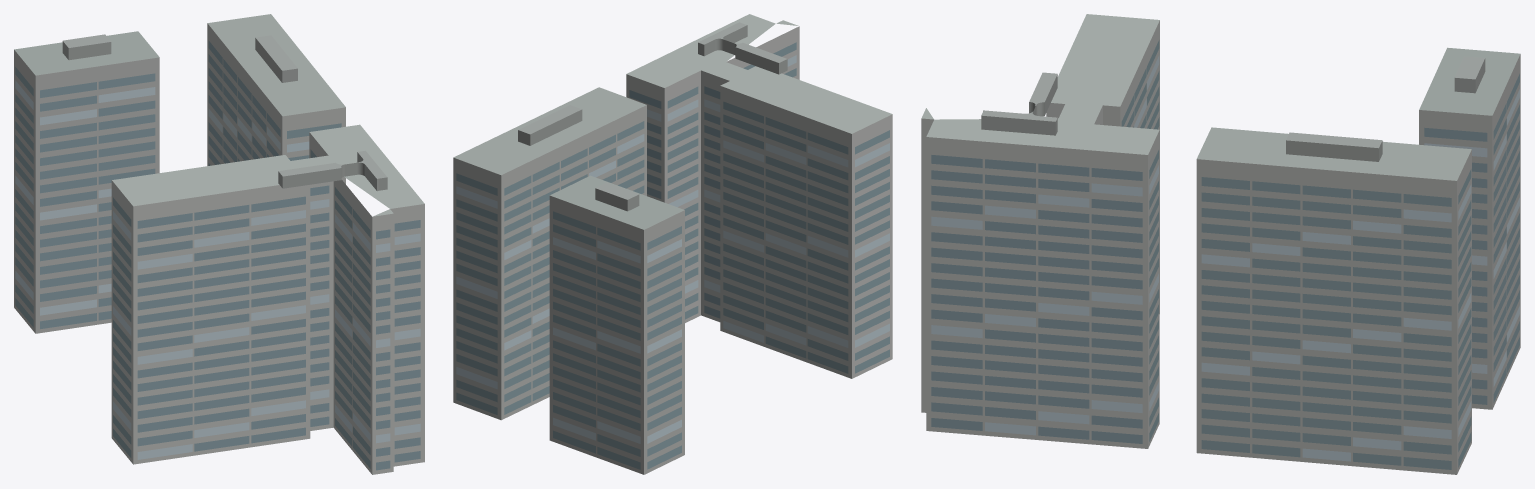
File: apt-a13922103.glb
3 views of the same model, side by side, from view 1: azimuth 30°, elevation 25°; view 2: azimuth 150°, elevation 25°; view 3: azimuth 270°, elevation 25° (orthographic). The views are drawn at different scales.
Visible parts, largest first — view 1: apt-a13922103; view 2: apt-a13922103; view 3: apt-a13922103.
Boxes of the visible parts, <box> form: apt-a13922103: <box>14,14,424,474</box>; apt-a13922103: <box>453,14,892,474</box>; apt-a13922103: <box>921,14,1520,474</box>.
Size of the model in its own units: 61.64 by 53 by 93.49.
